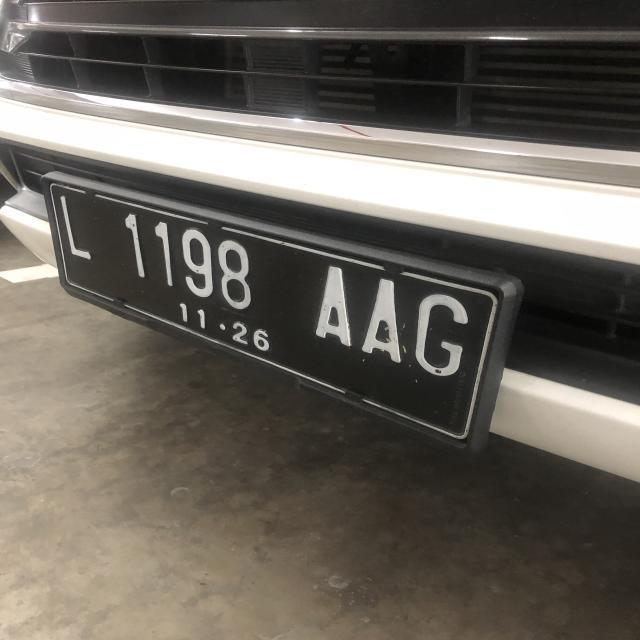1: (118, 207, 152, 284), (152, 218, 180, 288)
8: (215, 241, 252, 309)
9: (180, 227, 214, 300)
A: (362, 273, 408, 365), (312, 260, 352, 347)
G: (412, 280, 473, 376)
L: (58, 190, 92, 262)
